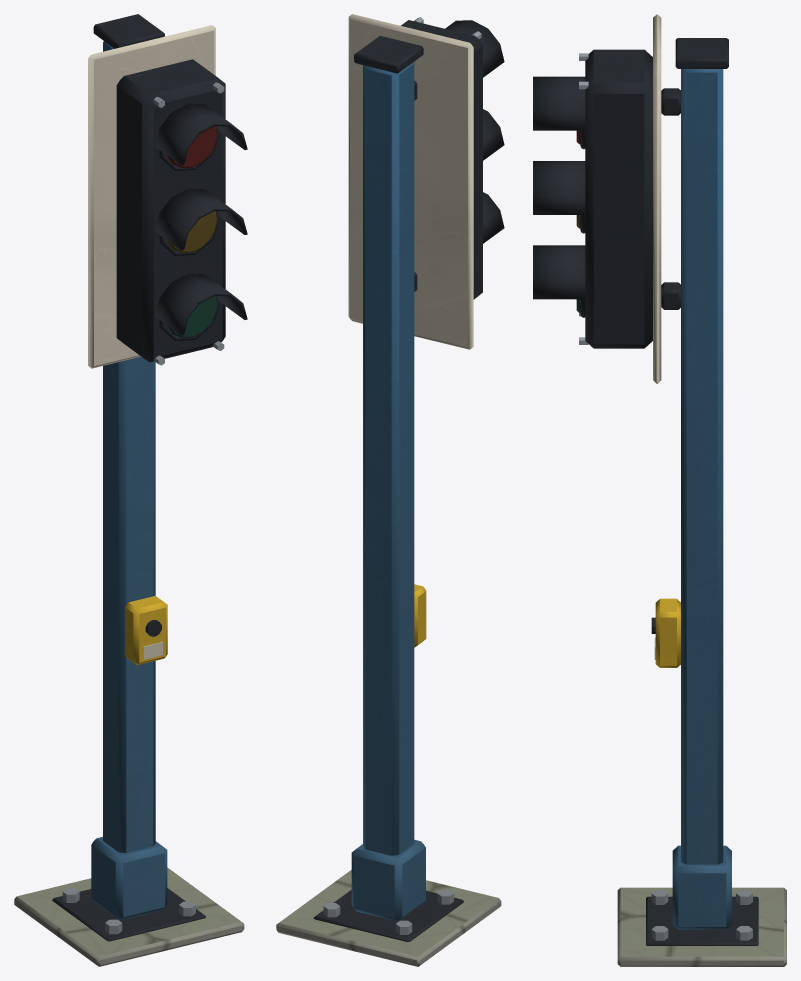
Rendered from traffic_light.glb.
3 renders of one model, left to right at view 1: azimuth 30°, elevation 25°; view 2: azimuth 150°, elevation 25°; view 3: azimuth 270°, elevation 25°, orthographic. The views are drawn at different scales.
Parts seen in each view (by area): view 1: traffic_light; view 2: traffic_light; view 3: traffic_light.
Boxes of the visible parts, left/top/right/bottom form: traffic_light: left=14, top=14, right=247, bottom=966; traffic_light: left=276, top=14, right=504, bottom=966; traffic_light: left=533, top=14, right=786, bottom=966.
Bounding box in the file's own units: 0.6 × 3.48 × 0.9.
Materials: 10 (10 with a texture image).
